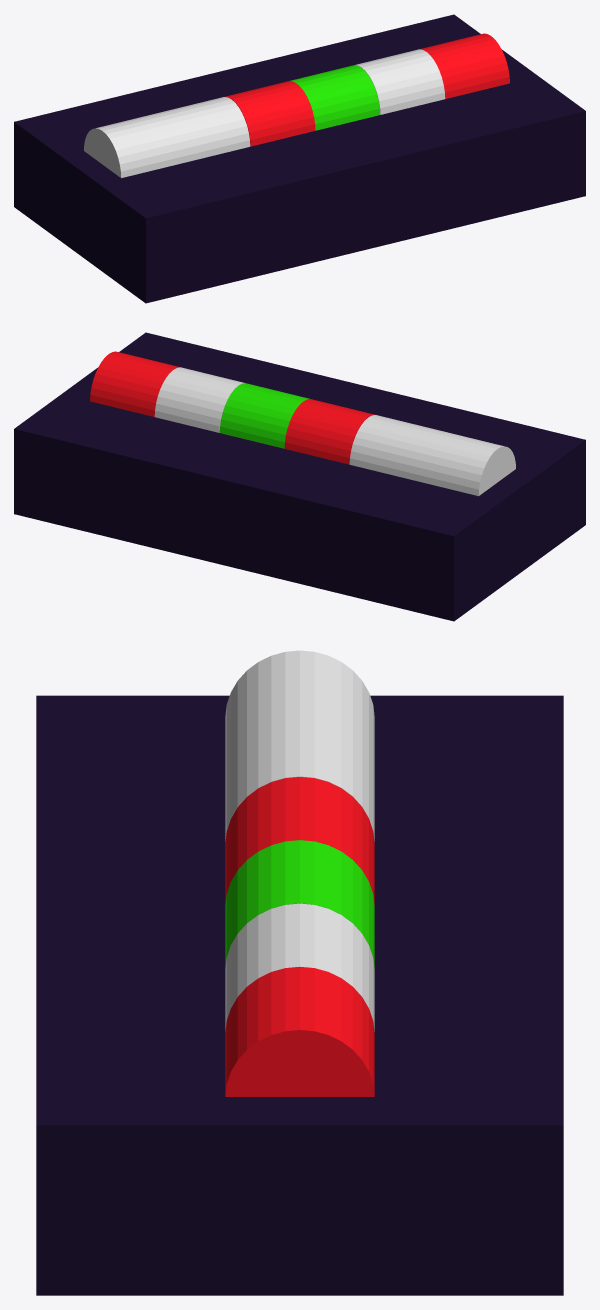
The model's file is Fuse1.fbx.
The picture shows the model from 3 angles, top to bottom: view 1: azimuth 30°, elevation 25°; view 2: azimuth 150°, elevation 25°; view 3: azimuth 270°, elevation 25°; orthographic projection. The views are drawn at different scales.
Visible parts, largest first — view 1: Cube, Cylinder, Cylinder.002, Cylinder.004, Cylinder.003, Cylinder.005, Cylinder.001; view 2: Cube, Cylinder, Cylinder.002, Cylinder.004, Cylinder.003, Cylinder.005, Cylinder.001; view 3: Cube, Cylinder.005, Cylinder.003, Cylinder.001, Cylinder.002, Cylinder.004, Cylinder.
Boxes of the visible parts, x1,y1,x2,y2 form: Cube: (14, 14, 585, 303); Cylinder: (84, 112, 185, 178); Cylinder.002: (224, 81, 315, 146); Cylinder.004: (355, 49, 445, 114); Cylinder.003: (290, 65, 380, 130); Cylinder.005: (420, 33, 509, 98); Cylinder.001: (160, 97, 250, 162); Cube: (14, 332, 585, 621); Cylinder: (414, 430, 515, 496); Cylinder.002: (284, 399, 375, 464); Cylinder.004: (154, 367, 244, 432); Cylinder.003: (219, 383, 309, 448); Cylinder.005: (90, 351, 179, 416); Cylinder.001: (349, 415, 439, 480); Cube: (36, 695, 563, 1295); Cylinder.005: (225, 966, 374, 1096); Cylinder.003: (225, 840, 374, 968); Cylinder.001: (225, 713, 374, 841); Cylinder.002: (225, 777, 374, 904); Cylinder.004: (225, 903, 374, 1031); Cylinder: (225, 650, 374, 778).
Size of the model in its own units: 185 by 47.65 by 95.87.
